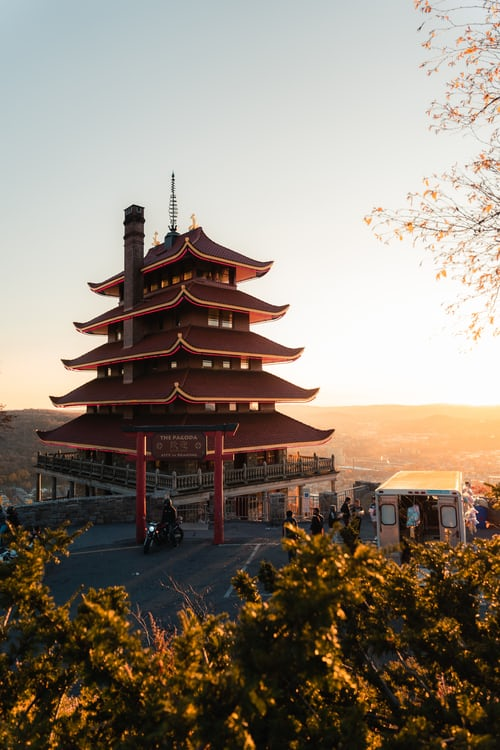Temple: (42, 191, 345, 532)
